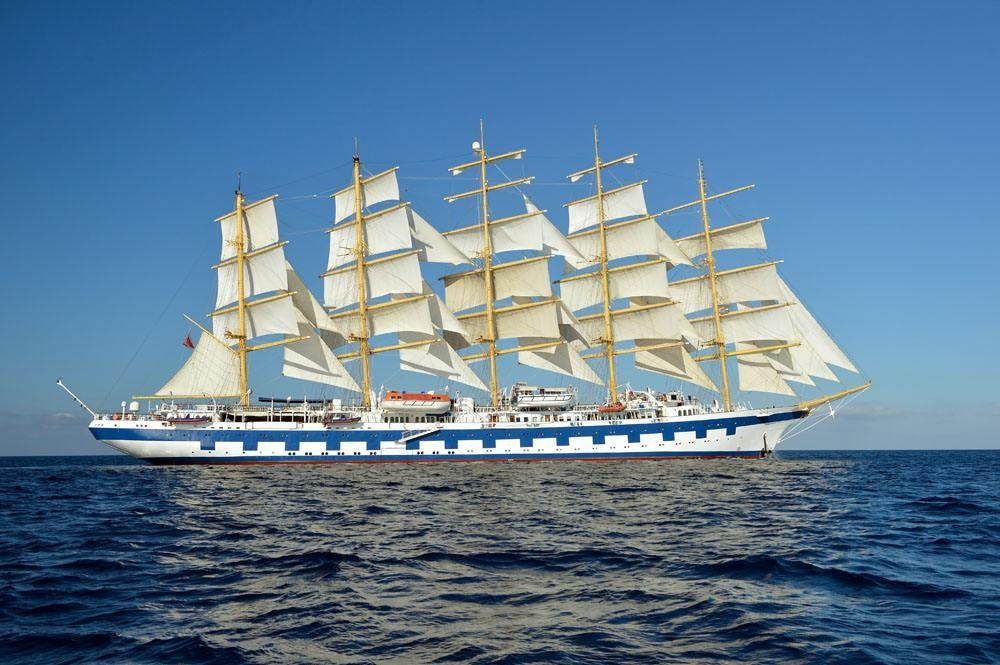fanchuan: (53, 116, 872, 465)
